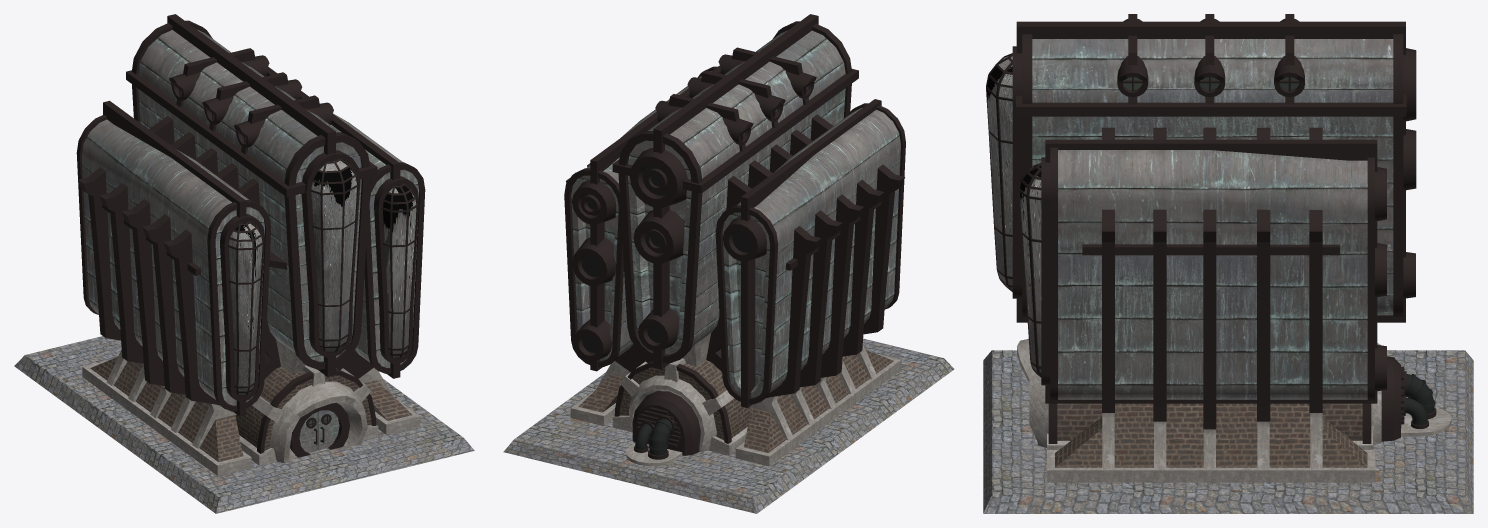
Rendered from Phantom_Cathedral_01.fbx.
The picture shows the model from 3 angles, left to right: view 1: azimuth 30°, elevation 25°; view 2: azimuth 150°, elevation 25°; view 3: azimuth 270°, elevation 25°; orthographic projection. The views are drawn at different scales.
Visible parts, largest first — view 1: polySurface318; view 2: polySurface318; view 3: polySurface318.
Part boxes in pixels (box(x1,y1,x2,y2)): polySurface318: box(14, 14, 474, 513); polySurface318: box(503, 14, 954, 513); polySurface318: box(983, 14, 1473, 513).
Size of the model in its own units: 9.19 by 11.53 by 12.41.
Materials: 11 (5 with a texture image).
